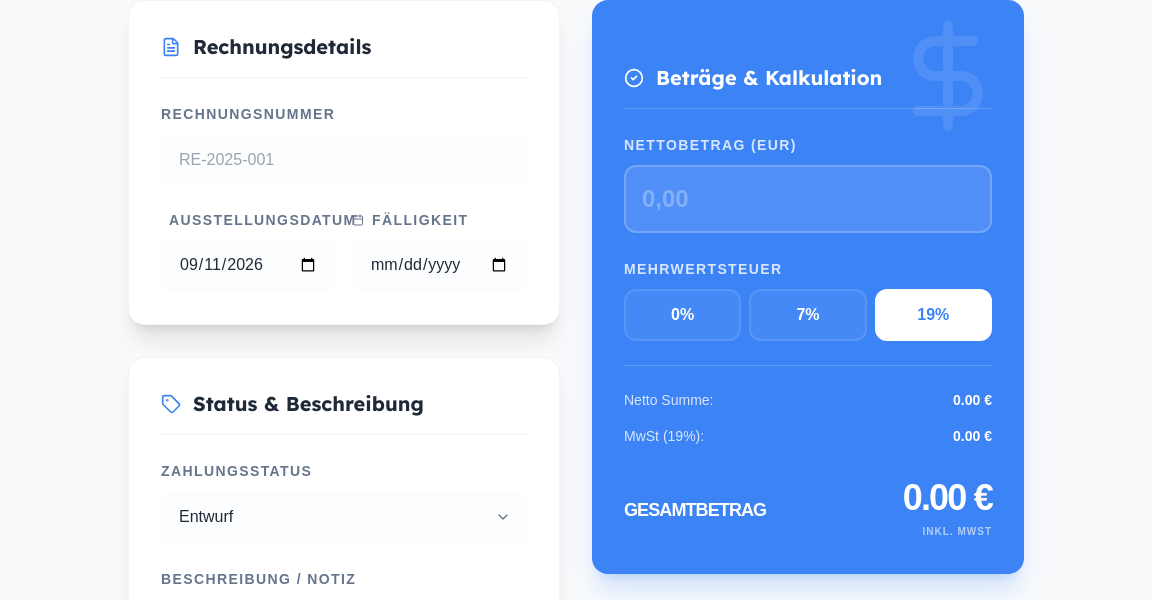
InvoiceForm › form submission › should calculate tax and gross amount automatically
The image size is (1152, 600).
Set net amount and tax rate
Type "100" into the number field labelled "Nettobetrag (EUR)".
click(808, 199); type("100")  # box [624, 165, 992, 233]
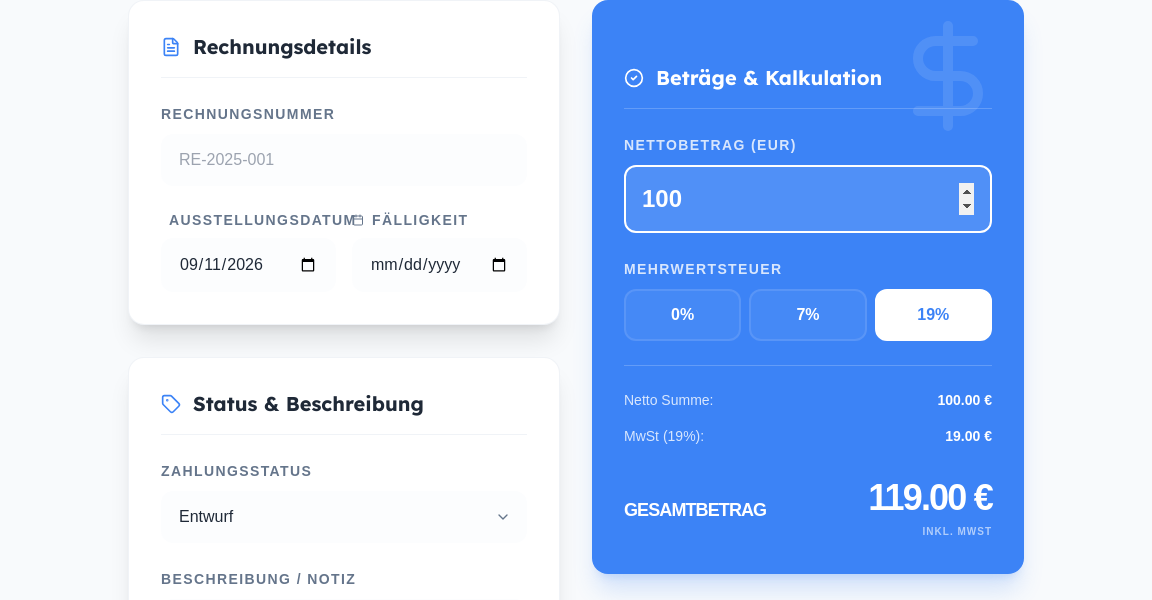
Check: the text "119.00 €" is shown, box [868, 478, 992, 518]
